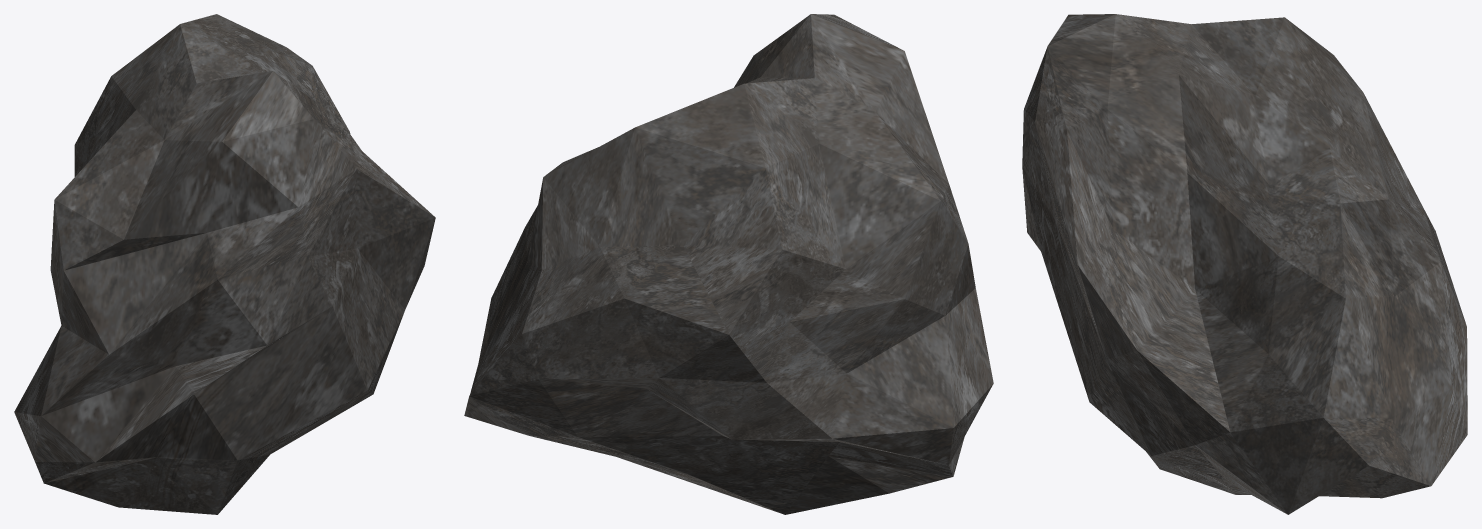
Rendered from Asteroid_03_LOD1.FBX.
3 views of the same model, side by side, from view 1: azimuth 30°, elevation 25°; view 2: azimuth 150°, elevation 25°; view 3: azimuth 270°, elevation 25° (orthographic). The views are drawn at different scales.
Visible parts, largest first — view 1: Asteriod_03_LOD1; view 2: Asteriod_03_LOD1; view 3: Asteriod_03_LOD1.
Part boxes in pixels (left/top/right/bottom): Asteriod_03_LOD1: left=14, top=14, right=435, bottom=514; Asteriod_03_LOD1: left=464, top=14, right=993, bottom=514; Asteriod_03_LOD1: left=1022, top=14, right=1467, bottom=514.
Bounding box in the file's own units: 729 × 725 × 613.
1 material, 1 textured.
